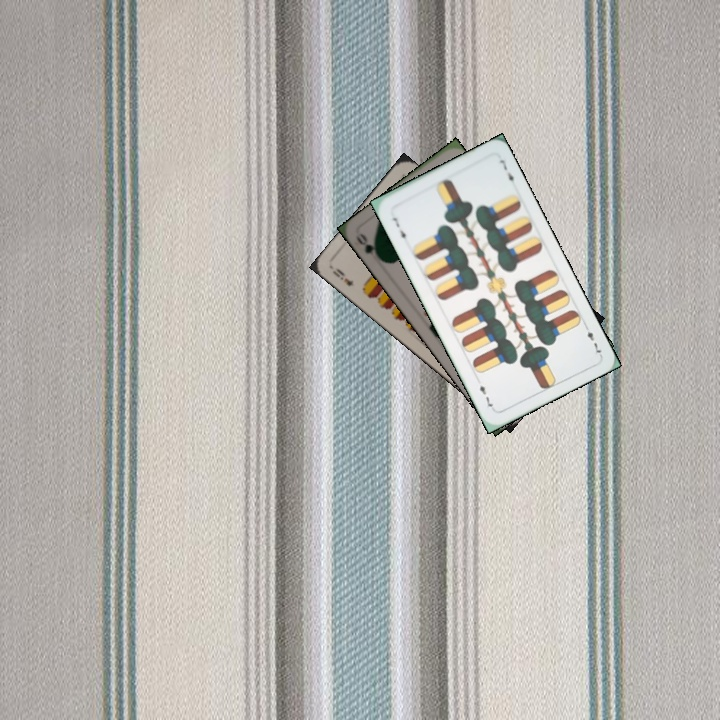E7: (580, 320, 604, 358), (389, 213, 409, 245)
E9: (328, 264, 357, 289)
GO: (352, 229, 387, 267)
